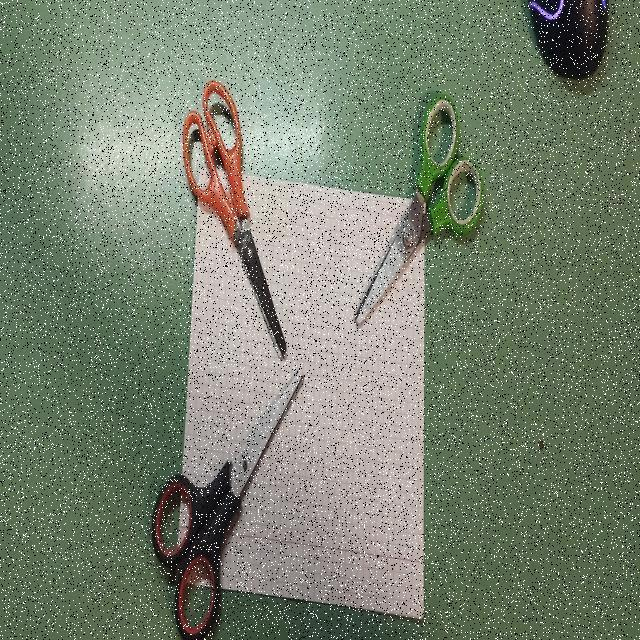scissors: (137, 359, 311, 640), (167, 60, 296, 380), (352, 88, 484, 330)
